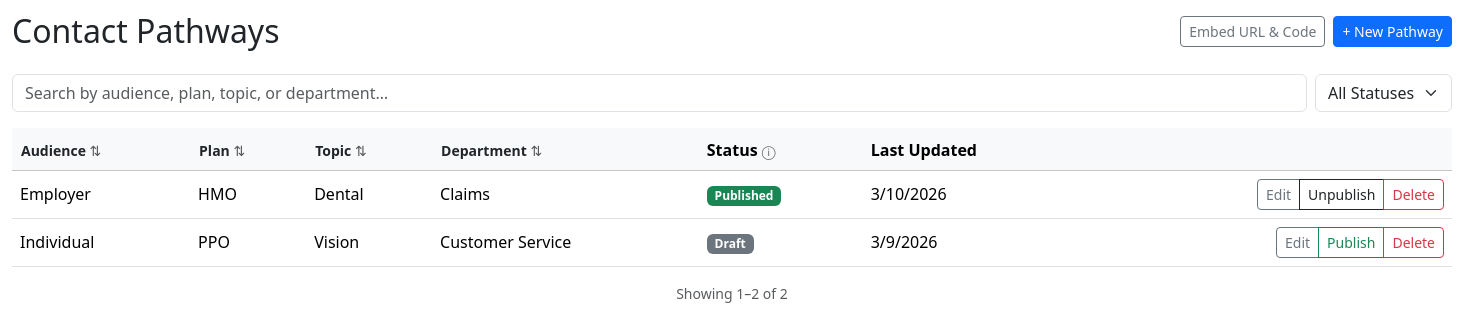
Scenario: PathwaysListPage › Search › filters rows by plan name
Check: the text "HMO" is shown, box [190, 170, 306, 218]
Type "PPO" into the search field named "search pathways" at (660, 93), box [12, 74, 1307, 112]
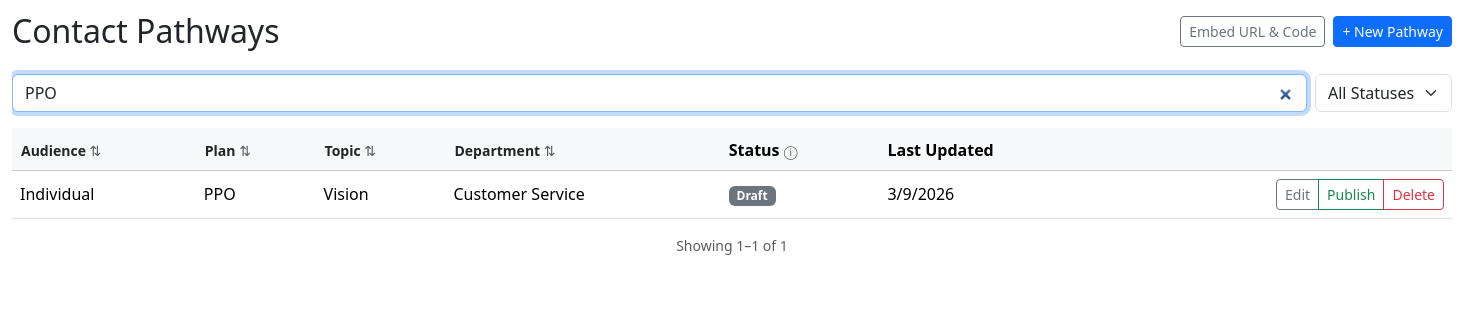
Check: the text "PPO" is shown, box [196, 170, 316, 218]
Check: the text "HMO" is gone
